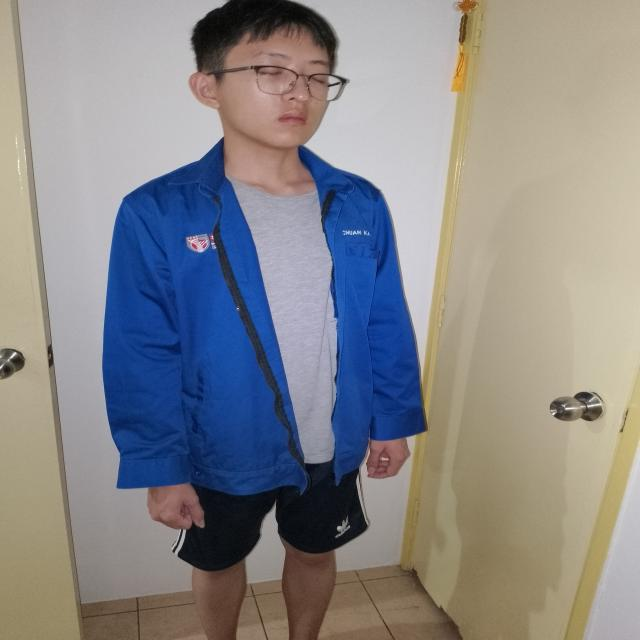person_with_labcoat: (104, 0, 424, 640)
